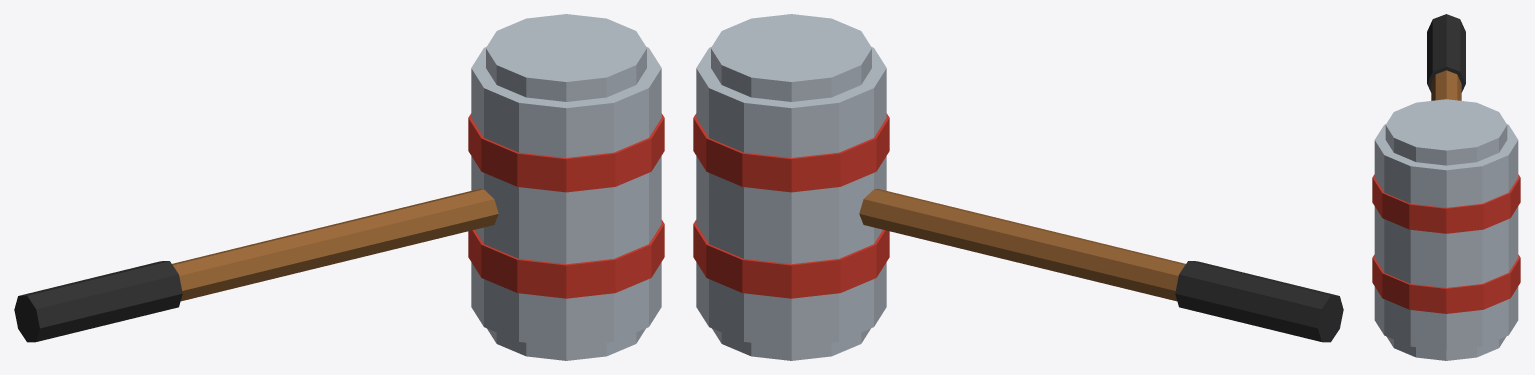
Rendered from hammer.glb.
3 views of the same model, side by side, from view 1: azimuth 30°, elevation 25°; view 2: azimuth 150°, elevation 25°; view 3: azimuth 270°, elevation 25° (orthographic). The views are drawn at different scales.
Parts seen in each view (by area): view 1: HammerMesh; view 2: HammerMesh; view 3: HammerMesh.
Part boxes in pixels (left/top/right/bottom): HammerMesh: left=14, top=14, right=664, bottom=360; HammerMesh: left=693, top=14, right=1343, bottom=360; HammerMesh: left=1372, top=14, right=1520, bottom=360.
Bounding box in the file's own units: 1.97 × 0.84 × 0.536.
